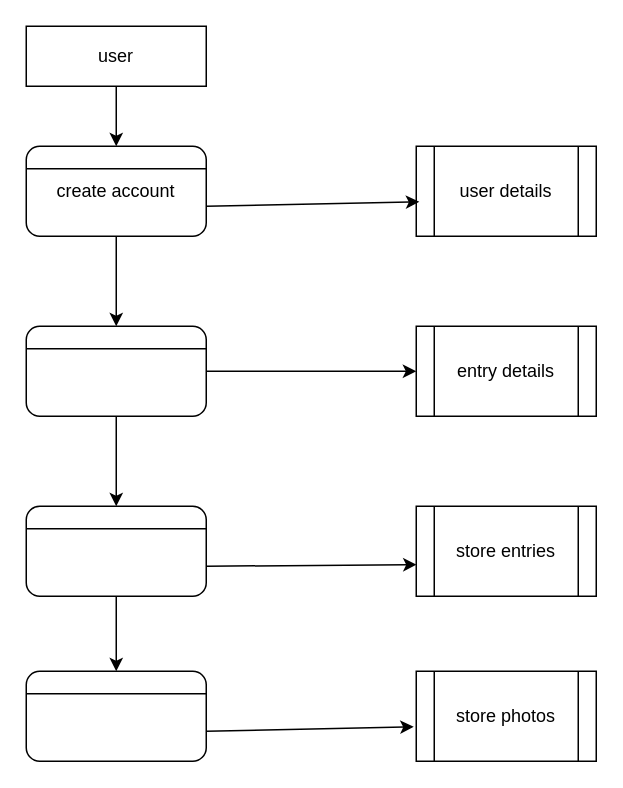
Image size: 623x788. Some labels were removed from this diagram. Here are the shapes that lost their labels. From the top down, the centre of each, then its label:
the point at 115,370: add entry
the point at 115,550: view entries
the point at 115,715: add photos
